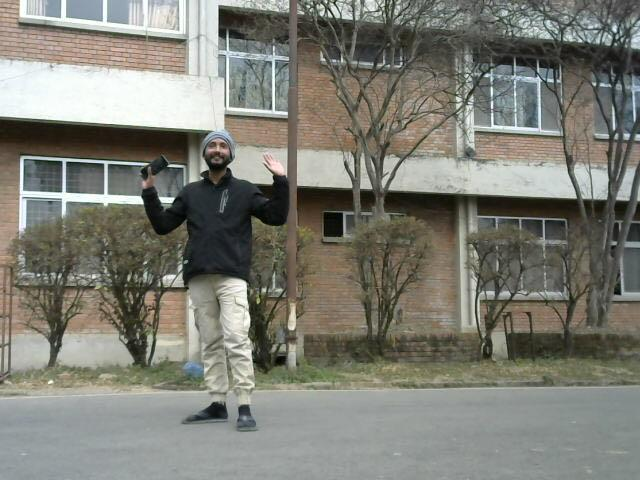Building: (304, 0, 640, 359), (1, 0, 194, 236)
Electrical Pole: (281, 0, 315, 386)
Person: (136, 114, 292, 455)
Tree: (481, 1, 640, 328), (324, 8, 469, 351), (16, 199, 192, 380)
